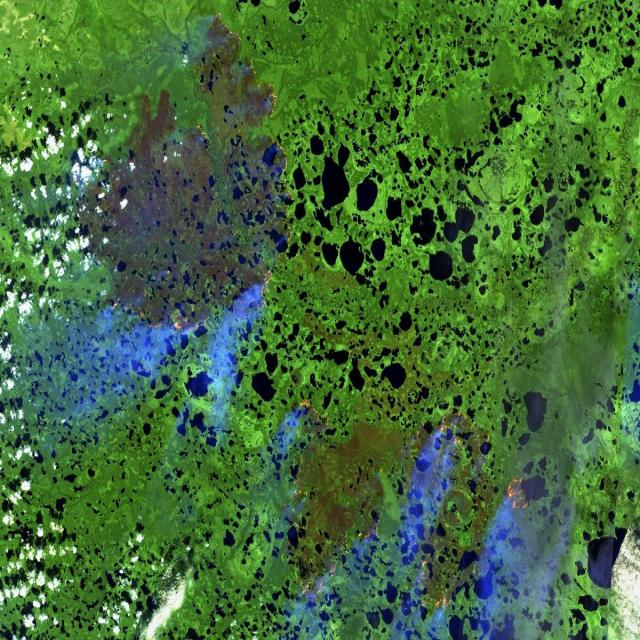fire: (212, 15, 282, 122), (310, 526, 390, 604), (430, 401, 496, 470), (155, 299, 214, 342), (283, 385, 333, 435), (279, 463, 315, 513), (508, 462, 538, 520), (252, 259, 278, 317), (191, 119, 215, 154), (433, 588, 459, 619)
